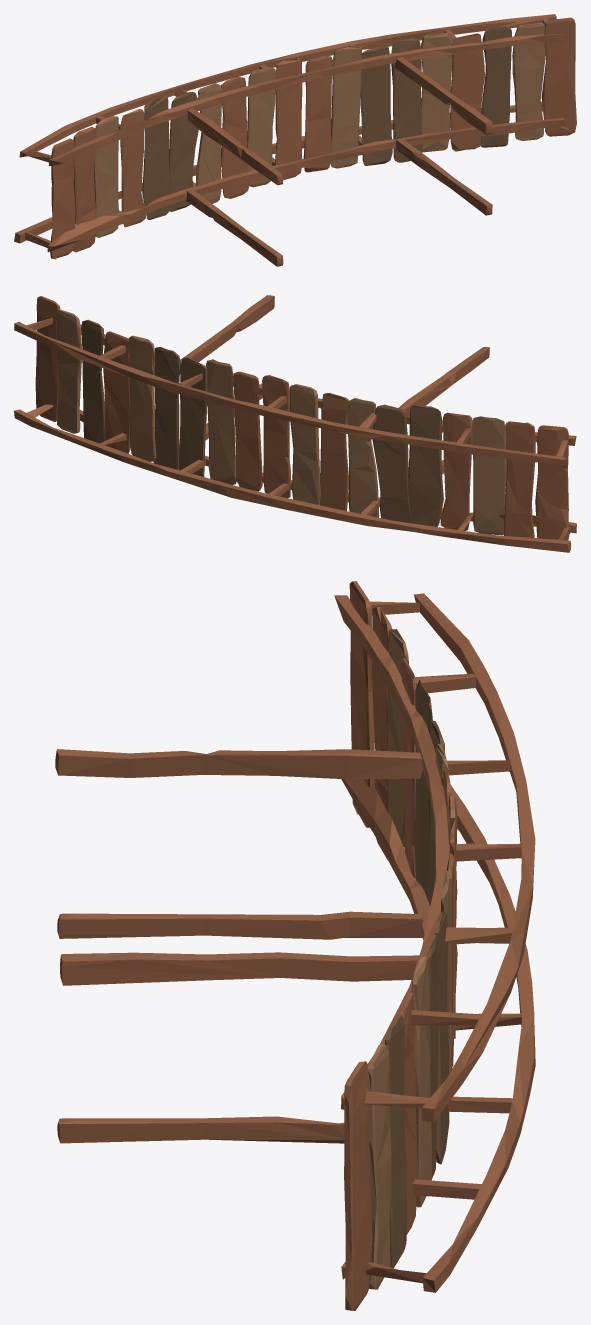
The model's file is bridge.FBX.
3 views of the same model, one above another, from view 1: azimuth 30°, elevation 25°; view 2: azimuth 150°, elevation 25°; view 3: azimuth 270°, elevation 25° (orthographic). The views are drawn at different scales.
Parts seen in each view (by area): view 1: Bridge; view 2: Bridge; view 3: Bridge.
Boxes of the visible parts, left/top/right/bottom form: Bridge: left=14, top=14, right=576, bottom=266; Bridge: left=14, top=295, right=576, bottom=552; Bridge: left=55, top=581, right=535, bottom=1310.
Size of the model in its own units: 604 by 133 by 231.
